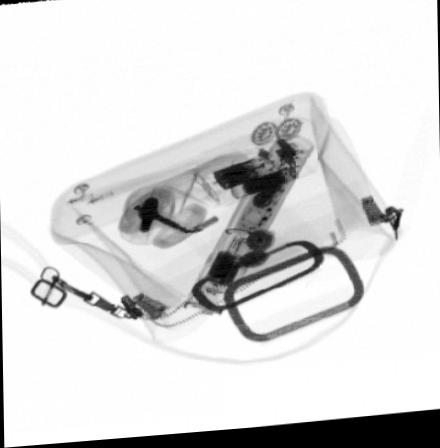Baton: (185, 136, 316, 320)
